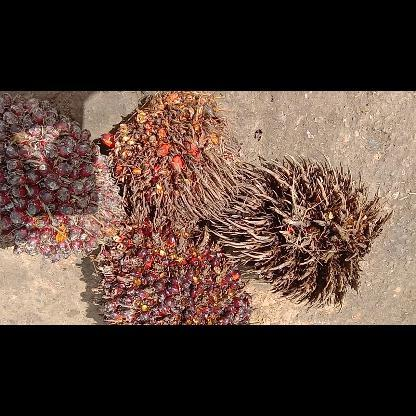Janjang kosong: (214, 150, 394, 312)
Kurang masak: (0, 92, 126, 262)
TBS masak: (92, 212, 260, 324)
Terlalu masak: (100, 92, 244, 230)
